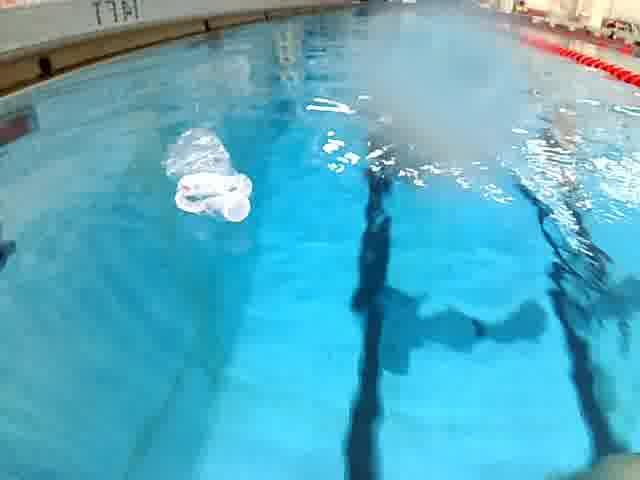Bottle: (160, 124, 260, 228)
